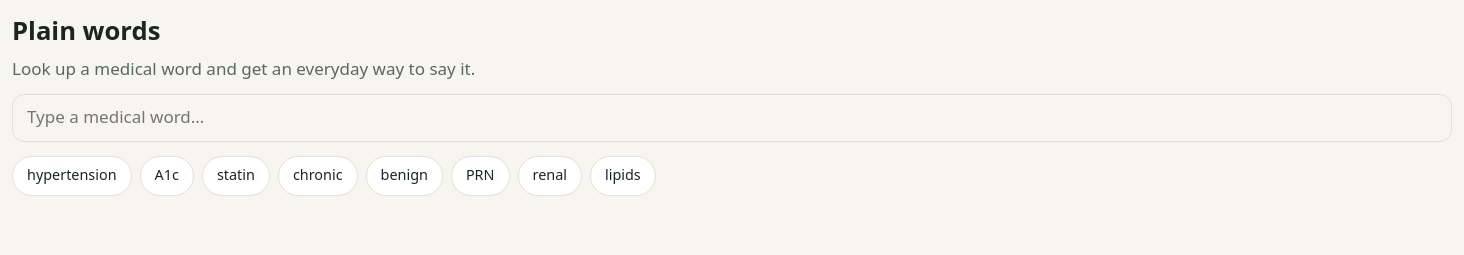
Plain words lookup › offers suggestion chips when empty
The image size is (1464, 255).
What coordinates should you click on to do the following:
click the button "PRN"
I would click on:
 (480, 176)
Its box is [451,156,510,196].
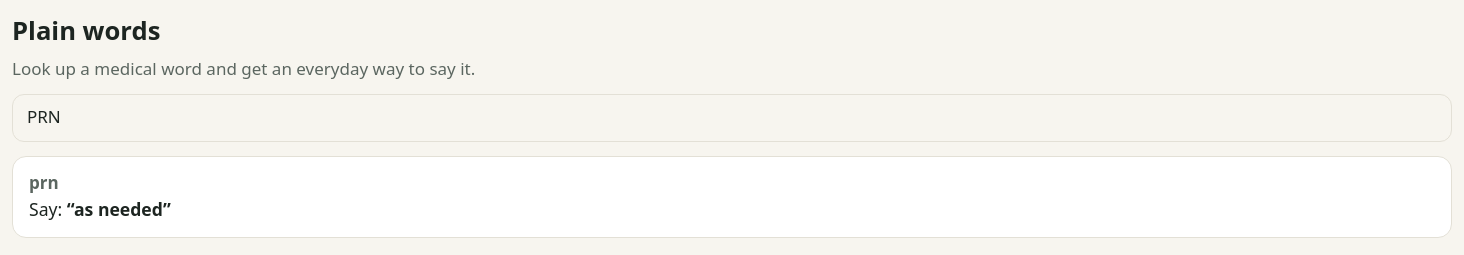
expect the text "“as needed”" is shown: met, box [67,197,171,221]
